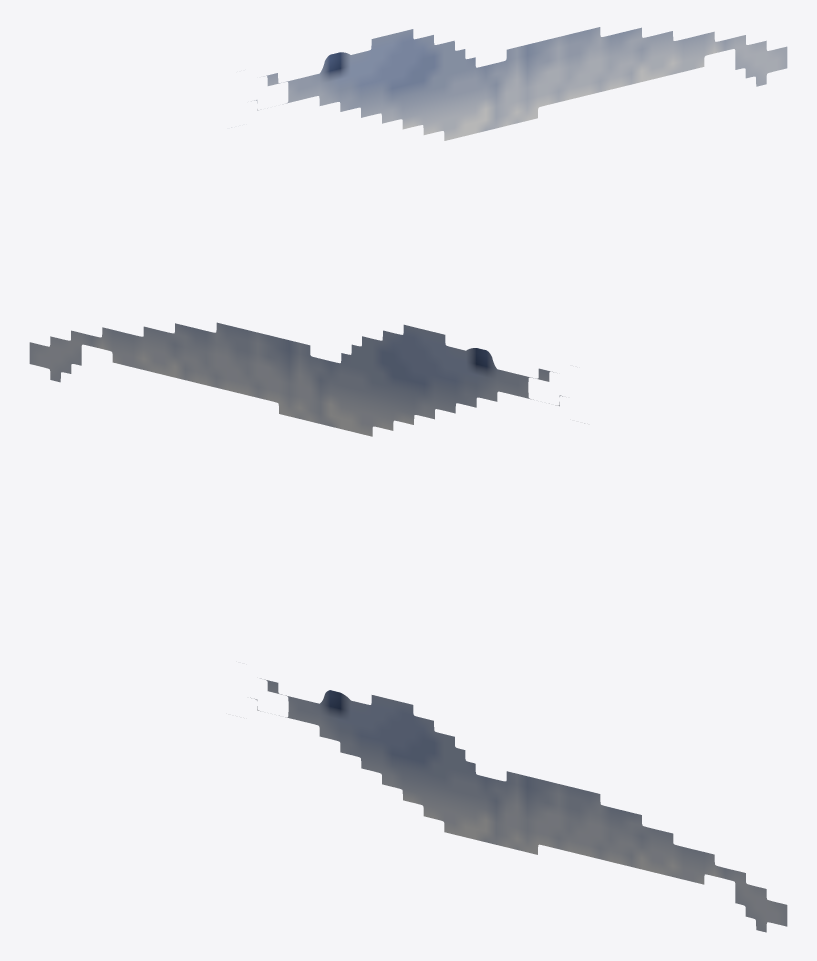
Rendered from Spine Mecanim GameObject (White_Shrimp).fbx.
3 renders of one model, top to bottom at view 1: azimuth 30°, elevation 25°; view 2: azimuth 150°, elevation 25°; view 3: azimuth 330°, elevation 25°, orthographic.
Visible parts, largest first — view 1: Spine Mecanim GameObject (White_Shrimp); view 2: Spine Mecanim GameObject (White_Shrimp); view 3: Spine Mecanim GameObject (White_Shrimp).
Boxes of the visible parts, left/top/right/bottom form: Spine Mecanim GameObject (White_Shrimp): left=231, top=27, right=787, bottom=140; Spine Mecanim GameObject (White_Shrimp): left=29, top=322, right=584, bottom=436; Spine Mecanim GameObject (White_Shrimp): left=250, top=678, right=787, bottom=932.
Bounding box in the file's own units: 0.5314 × 0.1471 × 0.0012.
Materials: 1 (1 with a texture image).
